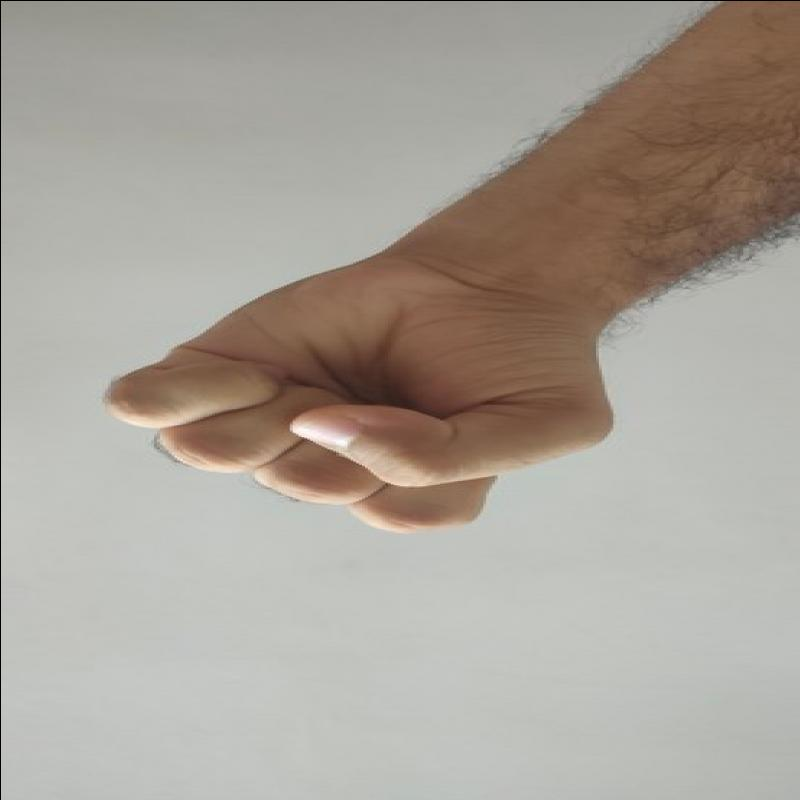Mushti: (96, 257, 622, 540)
